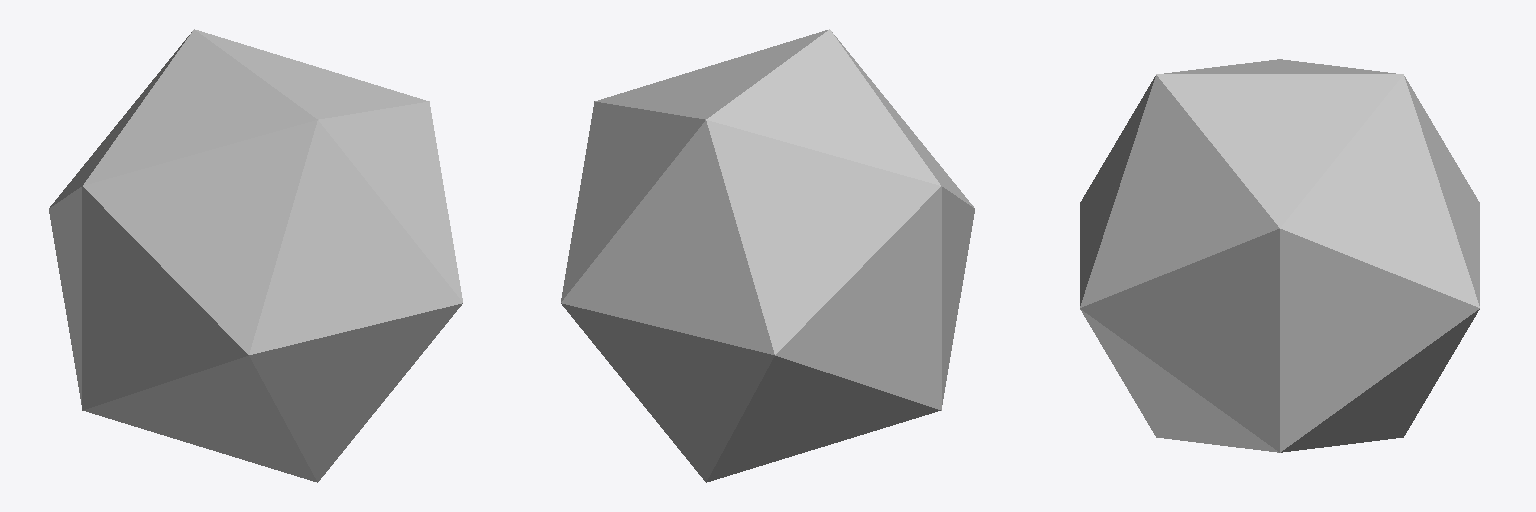
File: threeObject.obj
3 views of the same model, side by side, from view 1: azimuth 30°, elevation 25°; view 2: azimuth 150°, elevation 25°; view 3: azimuth 270°, elevation 25° (orthographic).
Visible parts, largest first — view 1: 000_Polyhedron_-_baked; view 2: 000_Polyhedron_-_baked; view 3: 000_Polyhedron_-_baked.
Part boxes in pixels (x1,y1,x2,y2): 000_Polyhedron_-_baked: (49, 29, 462, 482); 000_Polyhedron_-_baked: (561, 29, 974, 482); 000_Polyhedron_-_baked: (1080, 59, 1479, 452).
Bounding box in the file's own units: 58.01 × 58.01 × 58.01.